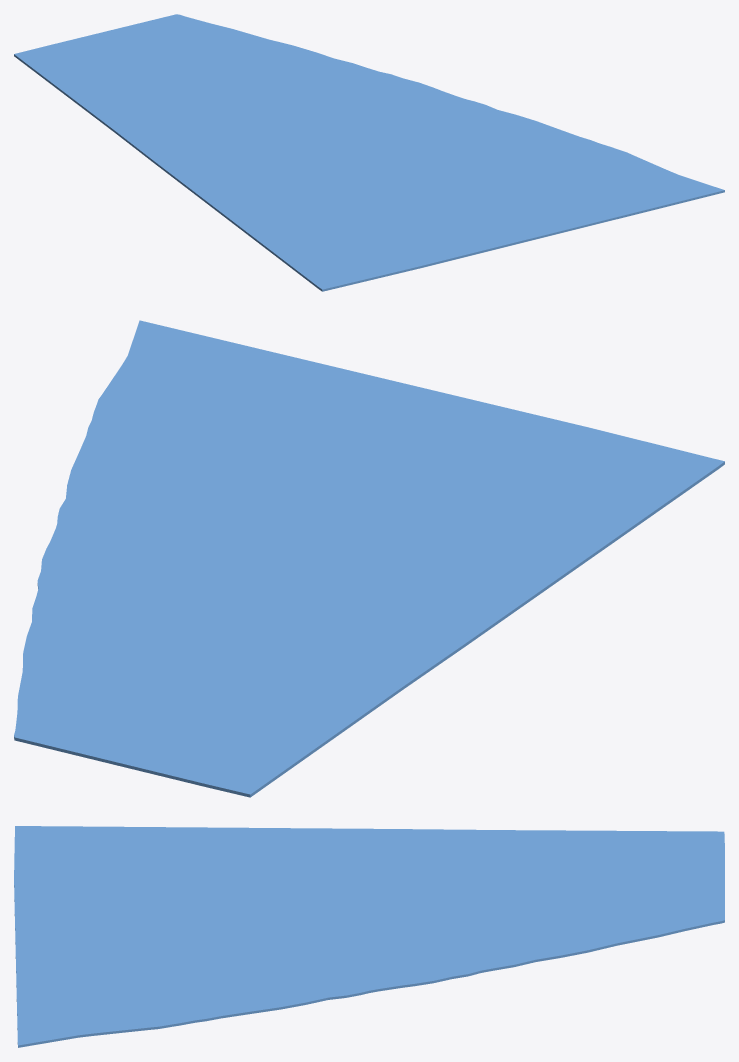
3 renders of one model, top to bottom at view 1: azimuth 30°, elevation 25°; view 2: azimuth 150°, elevation 25°; view 3: azimuth 270°, elevation 25°, orthographic. The views are drawn at different scales.
Bounding box in the file's own units: 605 × 3.05 × 827.
